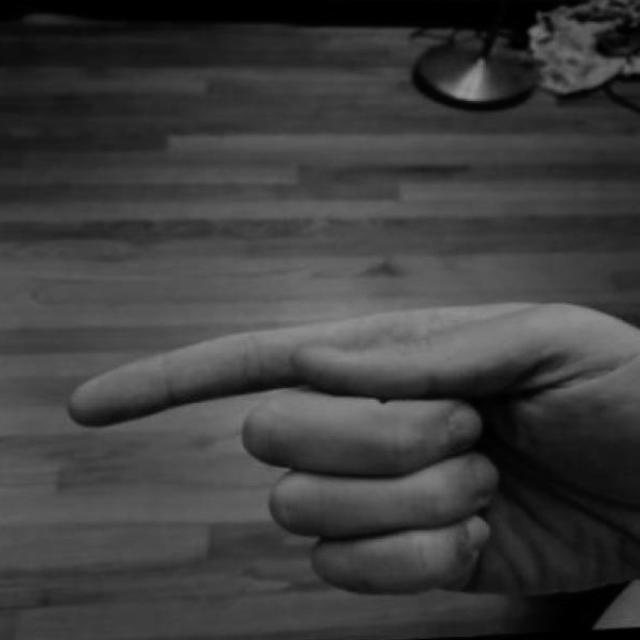G: (44, 283, 639, 600)
